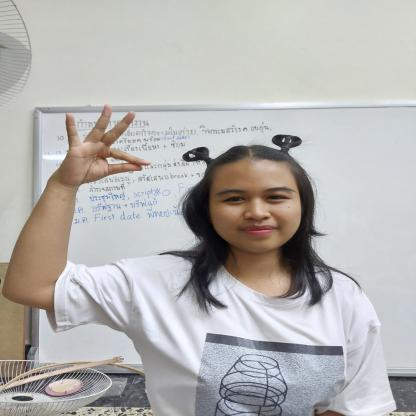Good luck: (35, 99, 154, 189)
